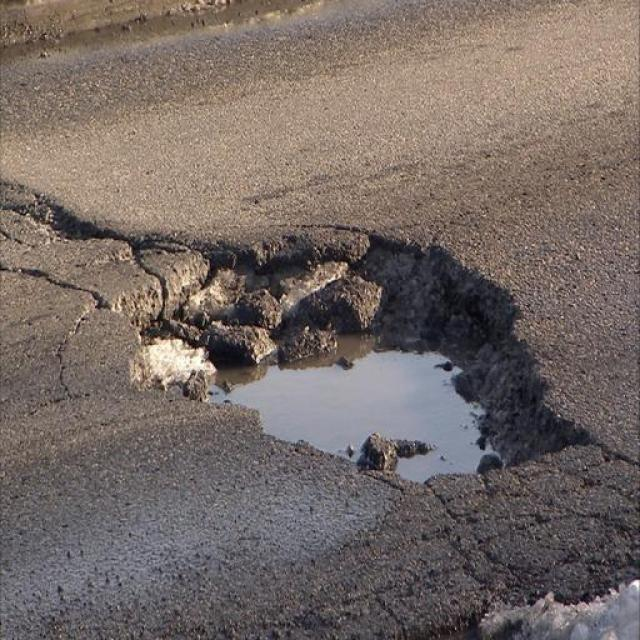puddle: (236, 359, 480, 451)
